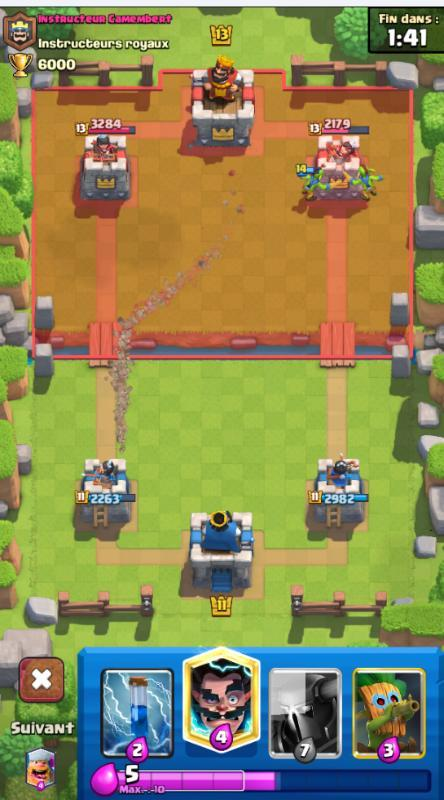enemy_miner_trail: (100, 159, 253, 464)
player_goblins: (293, 164, 327, 202), (350, 162, 384, 198)
